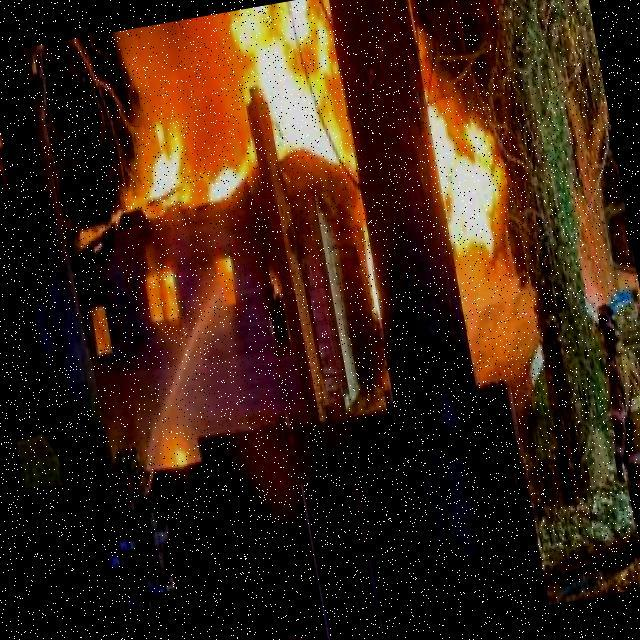Fire: (226, 1, 352, 172), (421, 88, 513, 251), (141, 111, 211, 215), (198, 127, 254, 227)
Smoke: (450, 236, 543, 375)
